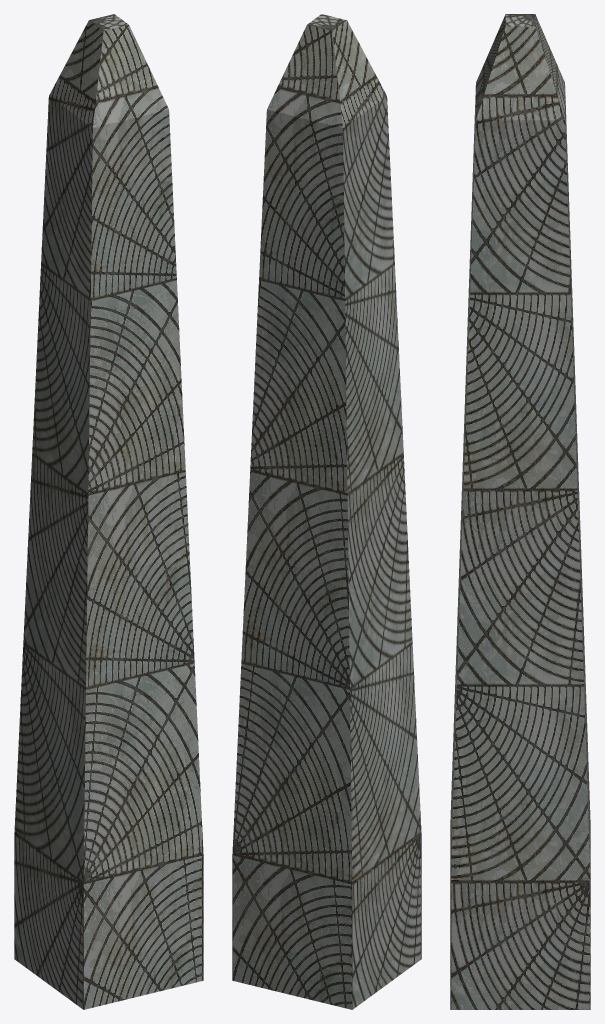
File: obelisk.dae
The picture shows the model from 3 angles, left to right: view 1: azimuth 30°, elevation 25°; view 2: azimuth 150°, elevation 25°; view 3: azimuth 270°, elevation 25°; orthographic projection.
Visible parts, largest first — view 1: Cube; view 2: Cube; view 3: Cube.
Boxes of the visible parts, box(x1,y1,x2,y2) form: Cube: box(14, 14, 203, 1009); Cube: box(232, 14, 421, 1009); Cube: box(450, 14, 590, 1009).
Bounding box in the file's own units: 2 × 2 × 15.11.
1 material, 1 textured.
